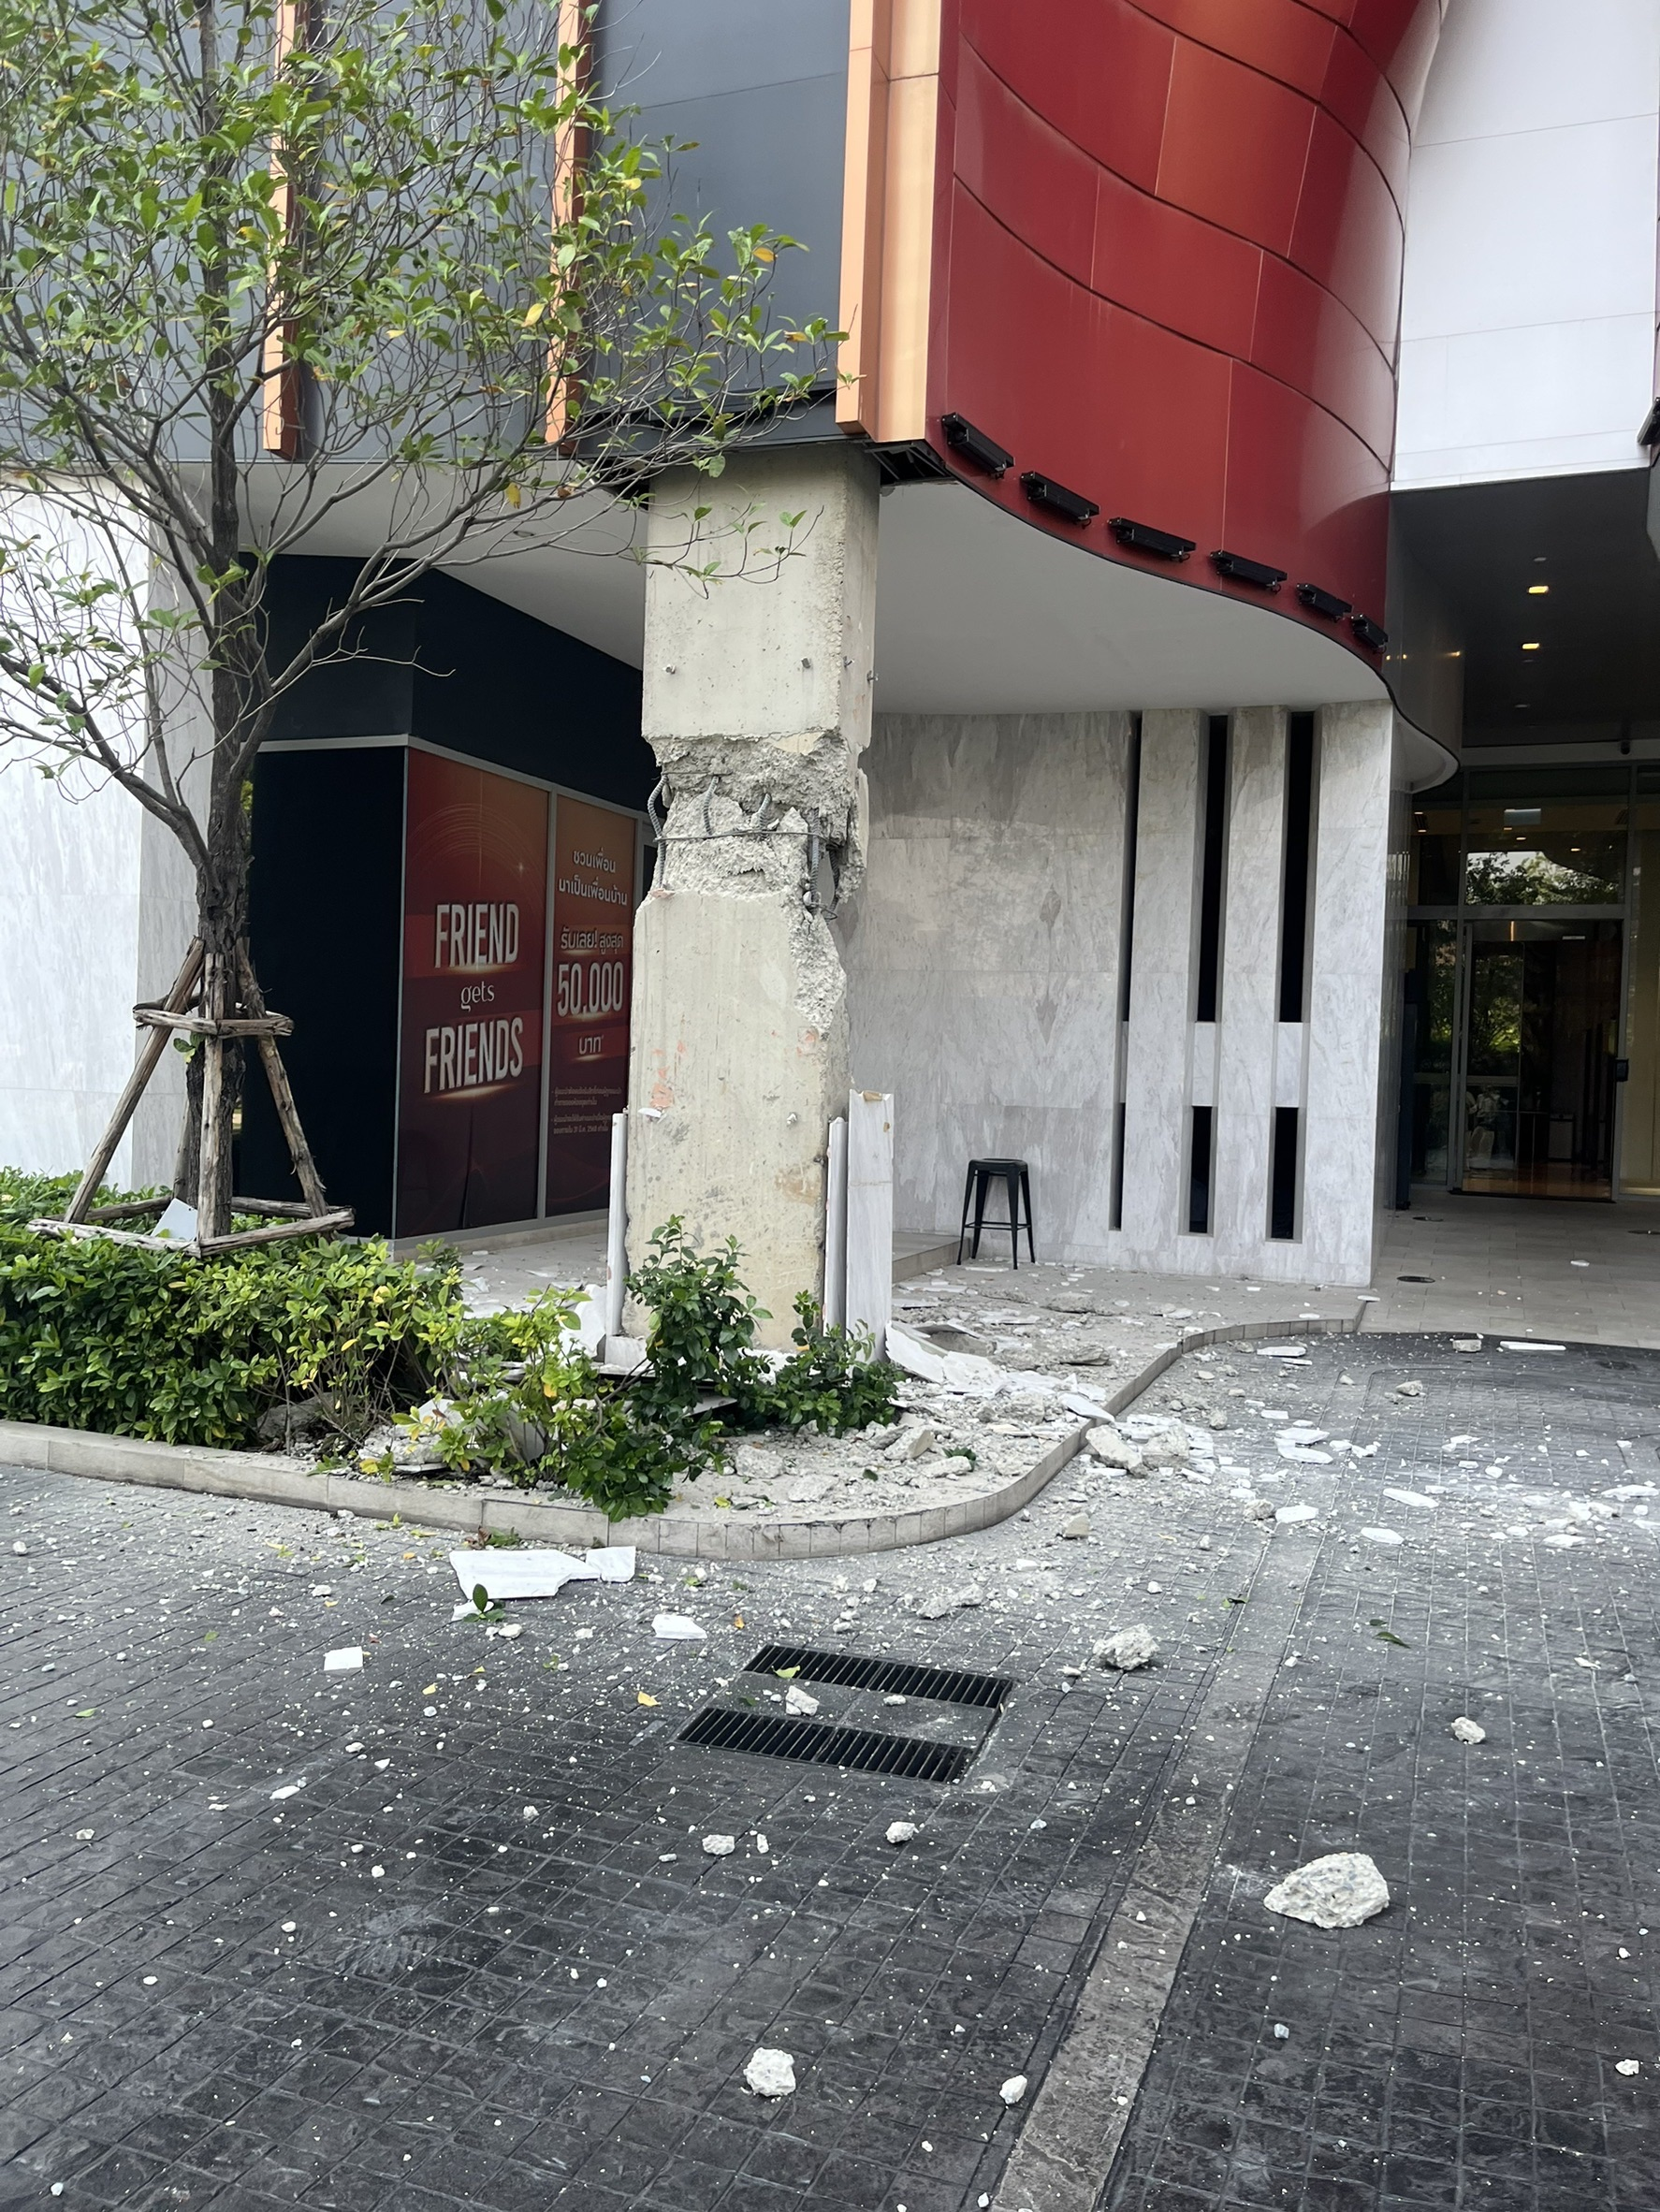High: (616, 682, 889, 1173)
